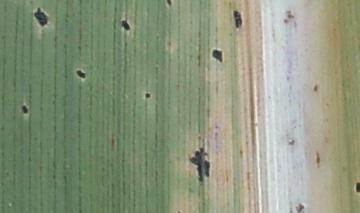tarspot: (185, 142, 215, 184), (30, 5, 51, 29), (208, 45, 226, 66), (229, 7, 244, 30), (117, 16, 133, 34), (72, 67, 91, 81), (17, 102, 33, 116), (142, 88, 153, 102), (353, 179, 360, 196), (164, 1, 173, 12)
